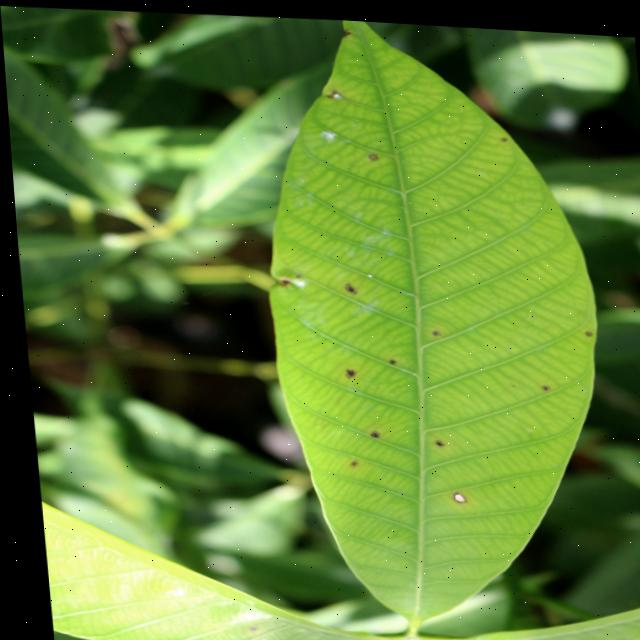Colletotrichum: (443, 486, 458, 497)
